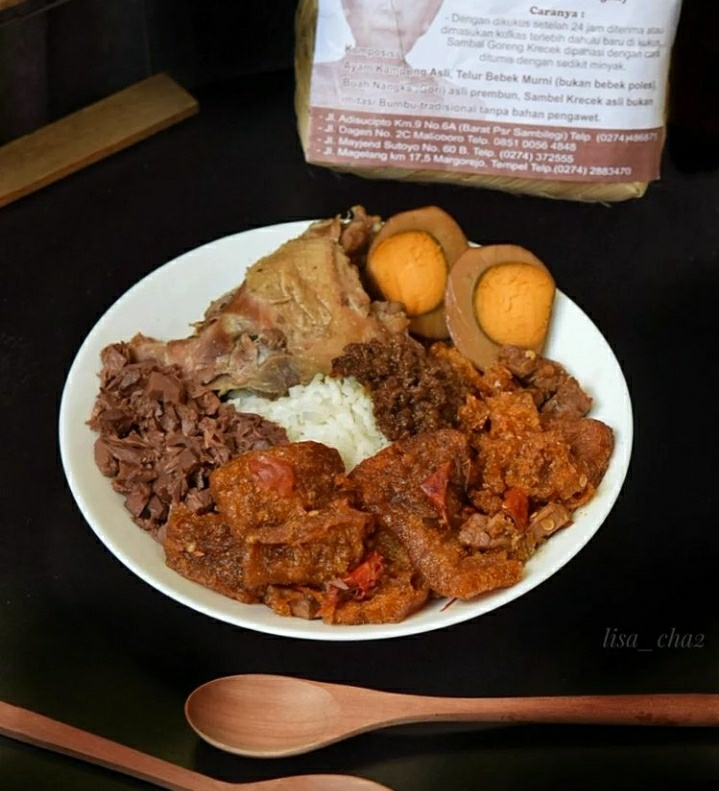gudeg: (82, 226, 591, 624)
